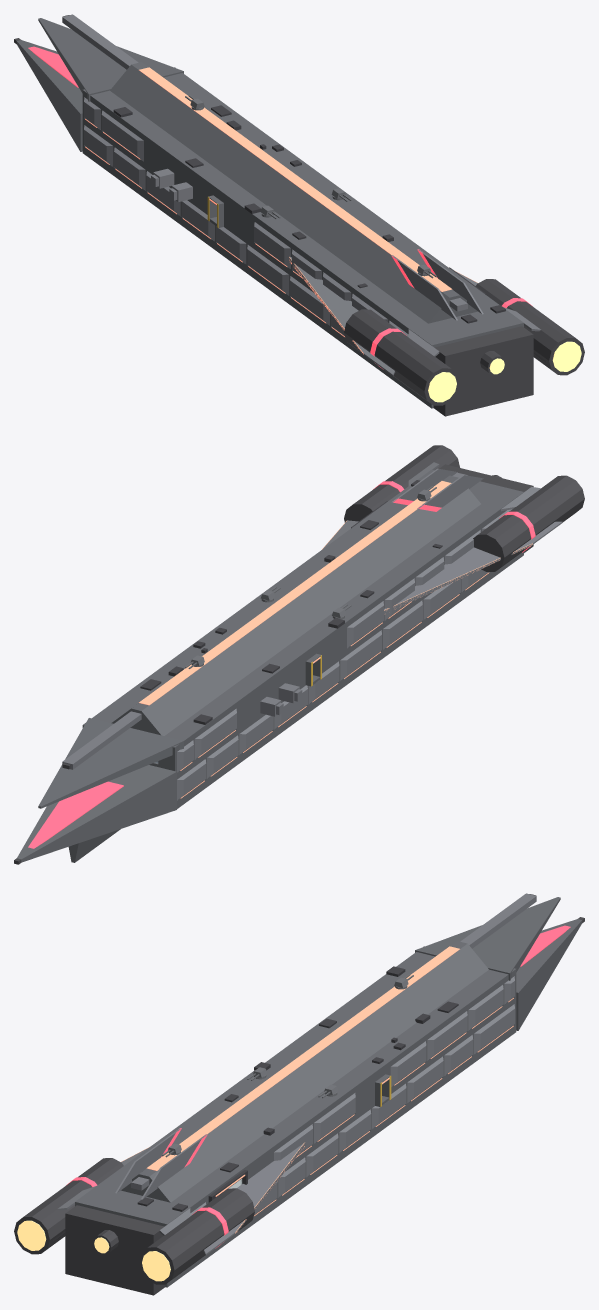
Rendered from ship_SMALL_DROP_FRIGATE_v1.glb.
3 renders of one model, top to bottom at view 1: azimuth 30°, elevation 25°; view 2: azimuth 150°, elevation 25°; view 3: azimuth 330°, elevation 25°, orthographic.
Visible parts, largest first — view 1: SMALL_DROP_FRIGATE_Hull-col, SMALL_DROP_FRIGATE_Armor, SMALL_DROP_FRIGATE_Engines, SMALL_DROP_FRIGATE_Lights, SMALL_DROP_FRIGATE_EngineGlow, SMALL_DROP_FRIGATE_Details, SMALL_DROP_FRIGATE_Accent; view 2: SMALL_DROP_FRIGATE_Hull-col, SMALL_DROP_FRIGATE_Armor, SMALL_DROP_FRIGATE_Engines, SMALL_DROP_FRIGATE_Lights, SMALL_DROP_FRIGATE_Accent, SMALL_DROP_FRIGATE_Details; view 3: SMALL_DROP_FRIGATE_Hull-col, SMALL_DROP_FRIGATE_Armor, SMALL_DROP_FRIGATE_Engines, SMALL_DROP_FRIGATE_Lights, SMALL_DROP_FRIGATE_EngineGlow, SMALL_DROP_FRIGATE_Details, SMALL_DROP_FRIGATE_Accent.
Part boxes in pixels (x1=…): SMALL_DROP_FRIGATE_Hull-col: x1=16, y1=18, x2=523, y2=408; SMALL_DROP_FRIGATE_Armor: x1=62, y1=14, x2=540, y2=375; SMALL_DROP_FRIGATE_Engines: x1=14, y1=15, x2=584, y2=416; SMALL_DROP_FRIGATE_Lights: x1=85, y1=67, x2=477, y2=354; SMALL_DROP_FRIGATE_EngineGlow: x1=428, y1=341, x2=581, y2=402; SMALL_DROP_FRIGATE_Details: x1=113, y1=105, x2=505, y2=323; SMALL_DROP_FRIGATE_Accent: x1=28, y1=46, x2=532, y2=369; SMALL_DROP_FRIGATE_Hull-col: x1=17, y1=469, x2=523, y2=862; SMALL_DROP_FRIGATE_Armor: x1=62, y1=462, x2=562, y2=800; SMALL_DROP_FRIGATE_Engines: x1=14, y1=445, x2=584, y2=864; SMALL_DROP_FRIGATE_Lights: x1=139, y1=481, x2=532, y2=798; SMALL_DROP_FRIGATE_Accent: x1=28, y1=481, x2=535, y2=848; SMALL_DROP_FRIGATE_Details: x1=140, y1=480, x2=442, y2=724; SMALL_DROP_FRIGATE_Hull-col: x1=75, y1=897, x2=582, y2=1287; SMALL_DROP_FRIGATE_Armor: x1=58, y1=893, x2=536, y2=1254; SMALL_DROP_FRIGATE_Engines: x1=14, y1=894, x2=584, y2=1295; SMALL_DROP_FRIGATE_Lights: x1=121, y1=946, x2=513, y2=1233; SMALL_DROP_FRIGATE_EngineGlow: x1=17, y1=1220, x2=170, y2=1281; SMALL_DROP_FRIGATE_Details: x1=137, y1=966, x2=458, y2=1211; SMALL_DROP_FRIGATE_Accent: x1=66, y1=925, x2=570, y2=1248.
Size of the model in its own units: 25.51 by 16.45 by 127.
